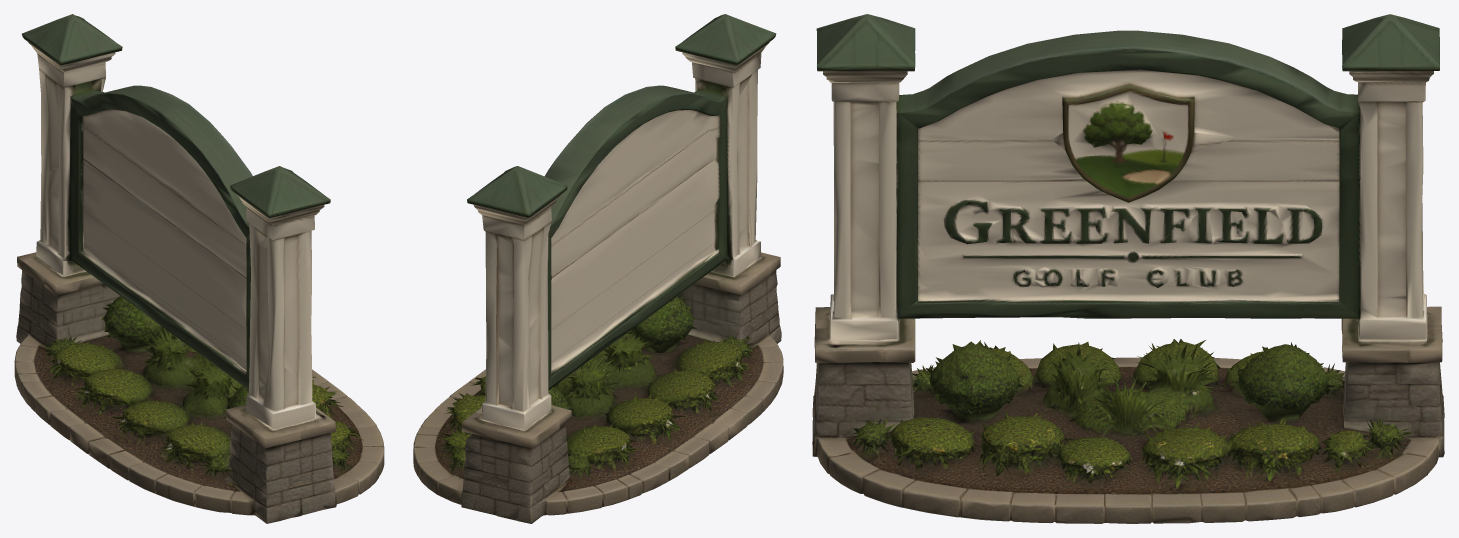
Rendered from club_sign.glb.
3 renders of one model, left to right at view 1: azimuth 30°, elevation 25°; view 2: azimuth 150°, elevation 25°; view 3: azimuth 270°, elevation 25°, orthographic. The views are drawn at different scales.
Visible parts, largest first — view 1: tripo_node_4b7996eb-5085-4cd8-a20c-7e86ea3ef1f0; view 2: tripo_node_4b7996eb-5085-4cd8-a20c-7e86ea3ef1f0; view 3: tripo_node_4b7996eb-5085-4cd8-a20c-7e86ea3ef1f0.
Boxes of the visible parts, box(x1,y1,x2,y2) form: tripo_node_4b7996eb-5085-4cd8-a20c-7e86ea3ef1f0: box(14, 14, 384, 523); tripo_node_4b7996eb-5085-4cd8-a20c-7e86ea3ef1f0: box(413, 14, 783, 523); tripo_node_4b7996eb-5085-4cd8-a20c-7e86ea3ef1f0: box(812, 14, 1444, 523).
Size of the model in its own units: 0.5475 by 0.7209 by 0.9787.
1 material, 1 textured.
